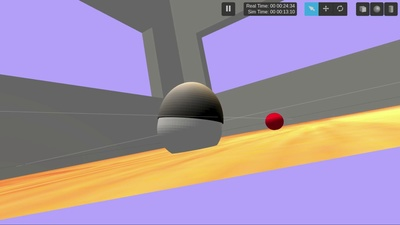mira_robot: (157, 81, 224, 154)
